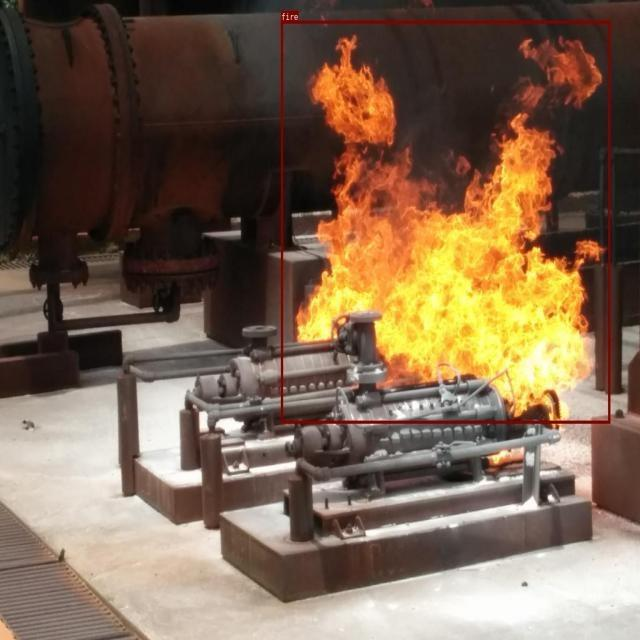fire: (281, 20, 610, 423)
